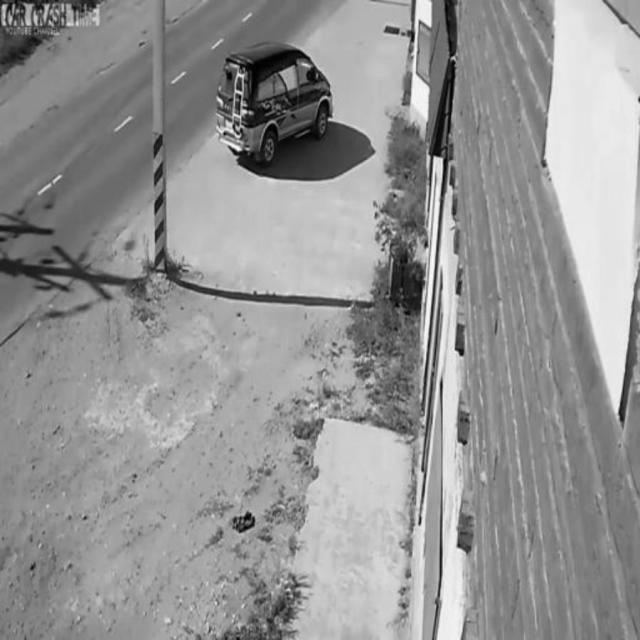vehicle: (214, 48, 335, 161)
